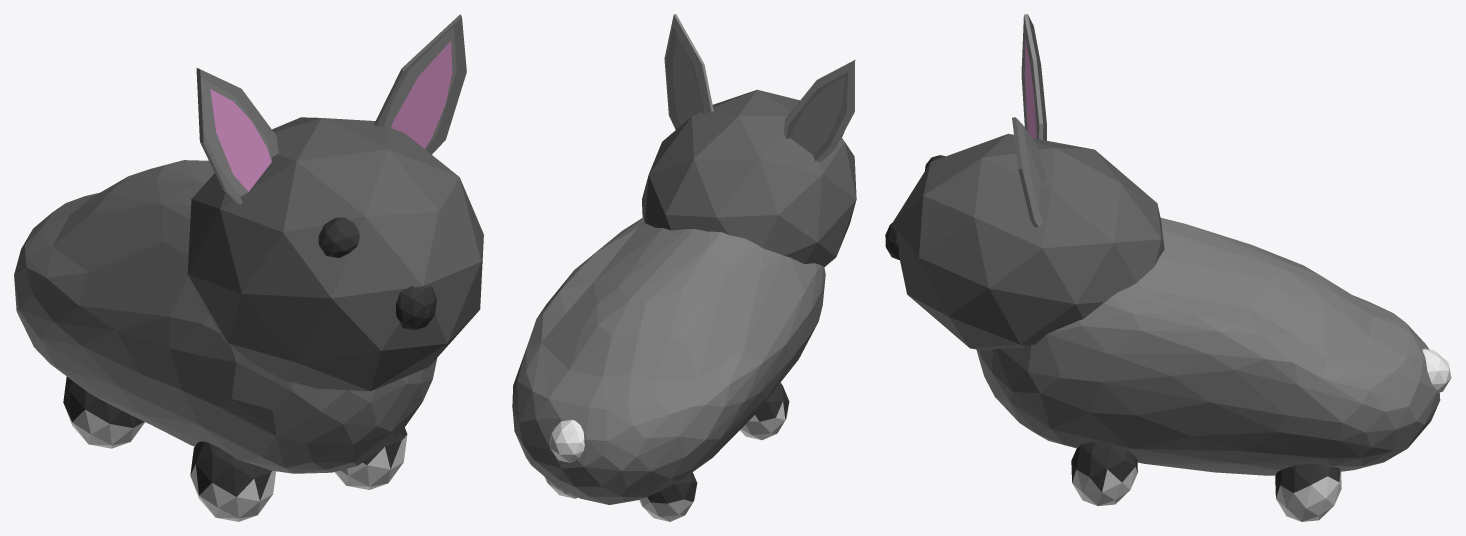
Rendered from Rabbit.glb.
3 renders of one model, left to right at view 1: azimuth 30°, elevation 25°; view 2: azimuth 150°, elevation 25°; view 3: azimuth 270°, elevation 25°, orthographic. The views are drawn at different scales.
Parts seen in each view (by area): view 1: Icosphere.001, Icosphere, Plane.003, Plane.002, Icosphere.005, Icosphere.004, Icosphere.006, Icosphere.007, Icosphere.009; view 2: Icosphere, Icosphere.001, Plane.002, Plane.003, Icosphere.004, Icosphere.005, Icosphere.002; view 3: Icosphere, Icosphere.001, Icosphere.006, Icosphere.003, Plane.002, Plane.003, Icosphere.002.
Part boxes in pixels (x1=…): Icosphere.001: x1=187, y1=117, x2=483, y2=391; Icosphere: x1=14, y1=160, x2=437, y2=473; Plane.003: x1=374, y1=14, x2=466, y2=154; Plane.002: x1=196, y1=68, x2=278, y2=204; Icosphere.005: x1=190, y1=441, x2=275, y2=521; Icosphere.004: x1=63, y1=376, x2=144, y2=448; Icosphere.006: x1=334, y1=427, x2=407, y2=489; Icosphere.007: x1=395, y1=286, x2=436, y2=330; Icosphere.009: x1=318, y1=217, x2=359, y2=257; Icosphere: x1=512, y1=217, x2=825, y2=504; Icosphere.001: x1=642, y1=89, x2=856, y2=266; Plane.002: x1=783, y1=60, x2=855, y2=161; Plane.003: x1=664, y1=14, x2=713, y2=129; Icosphere.004: x1=639, y1=472, x2=697, y2=521; Icosphere.005: x1=740, y1=383, x2=789, y2=440; Icosphere.002: x1=550, y1=419, x2=584, y2=462; Icosphere: x1=976, y1=217, x2=1440, y2=475; Icosphere.001: x1=892, y1=133, x2=1164, y2=351; Icosphere.006: x1=1071, y1=442, x2=1137, y2=505; Icosphere.003: x1=1275, y1=464, x2=1341, y2=521; Plane.002: x1=1021, y1=14, x2=1046, y2=140; Plane.003: x1=1012, y1=117, x2=1047, y2=227; Icosphere.002: x1=1422, y1=348, x2=1451, y2=392.
Size of the model in its own units: 1.66 by 2.96 by 3.6.
